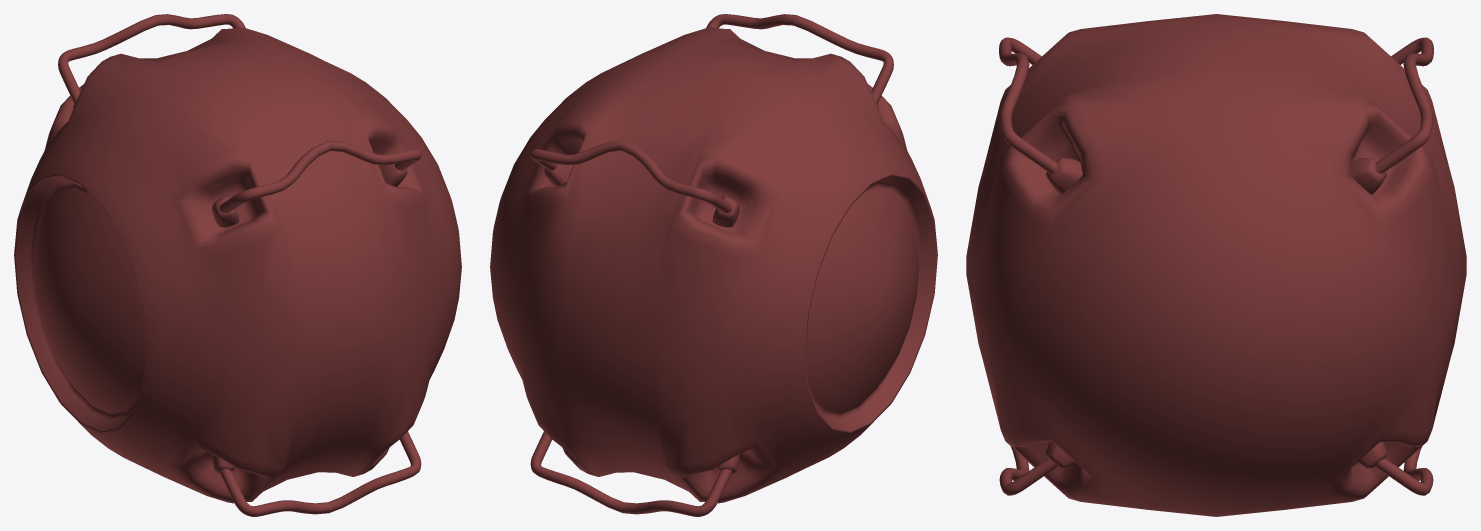
Rendered from Scifi_Drone_03.fbx.
The picture shows the model from 3 angles, left to right: view 1: azimuth 30°, elevation 25°; view 2: azimuth 150°, elevation 25°; view 3: azimuth 270°, elevation 25°; orthographic projection. The views are drawn at different scales.
Visible parts, largest first — view 1: SciFi_Drone_3; view 2: SciFi_Drone_3; view 3: SciFi_Drone_3.
Boxes of the visible parts, bbox=[...] form: SciFi_Drone_3: bbox=[14, 14, 461, 516]; SciFi_Drone_3: bbox=[490, 14, 937, 516]; SciFi_Drone_3: bbox=[966, 14, 1466, 516].
Bounding box in the file's own units: 0.019 × 0.0196 × 0.0196.
